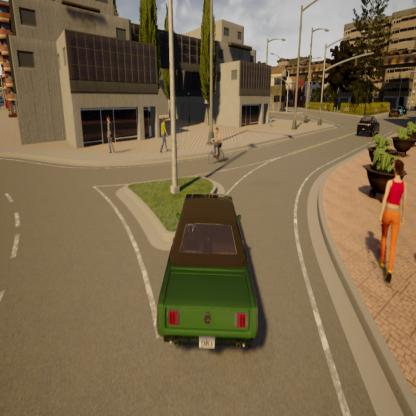Cars: (147, 187, 265, 362), (353, 112, 381, 141), (390, 107, 401, 118)
Pedestrian: (370, 161, 412, 289), (98, 115, 120, 158), (154, 112, 172, 157), (268, 112, 274, 130)
